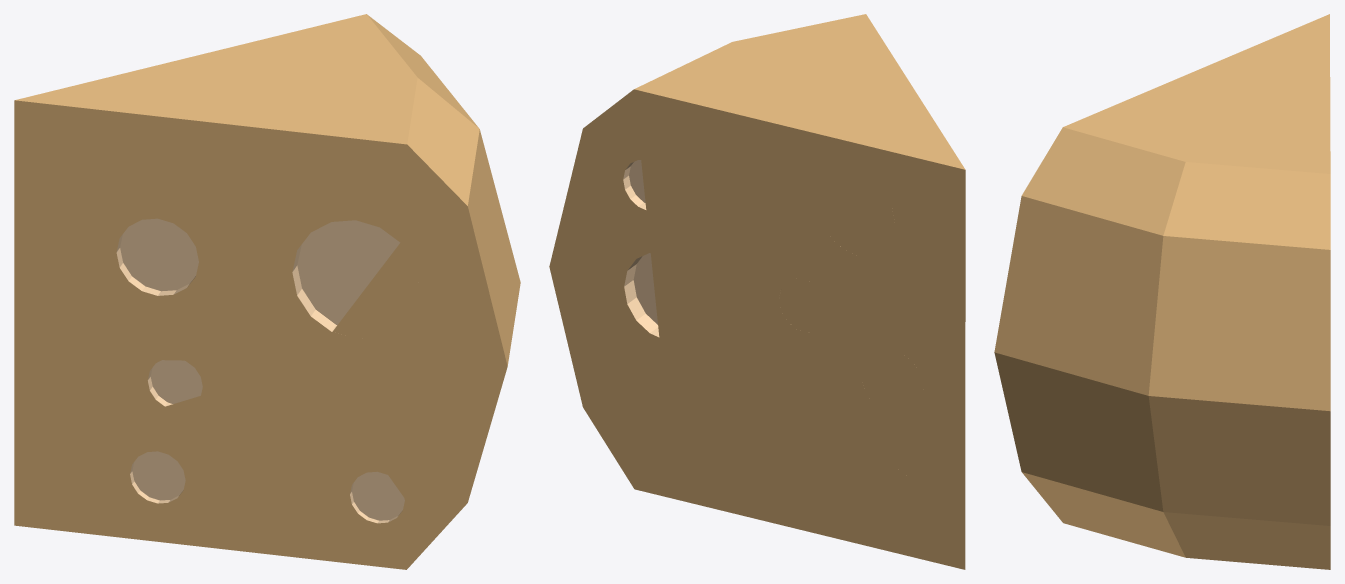
File: LowPoly_Cheese03.fbx
3 views of the same model, side by side, from view 1: azimuth 30°, elevation 25°; view 2: azimuth 150°, elevation 25°; view 3: azimuth 270°, elevation 25° (orthographic). The views are drawn at different scales.
Visible parts, largest first — view 1: Cheese; view 2: Cheese; view 3: Cheese.
Part boxes in pixels (x1,y1,x2,y2): Cheese: (14, 14, 520, 569); Cheese: (549, 14, 965, 569); Cheese: (994, 14, 1330, 569).
Size of the model in its own units: 40 by 36.75 by 28.27.
